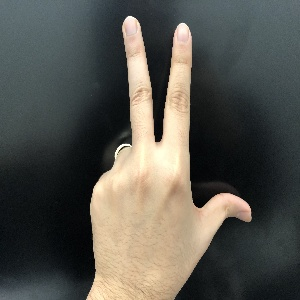hand: (90, 15, 252, 269)
